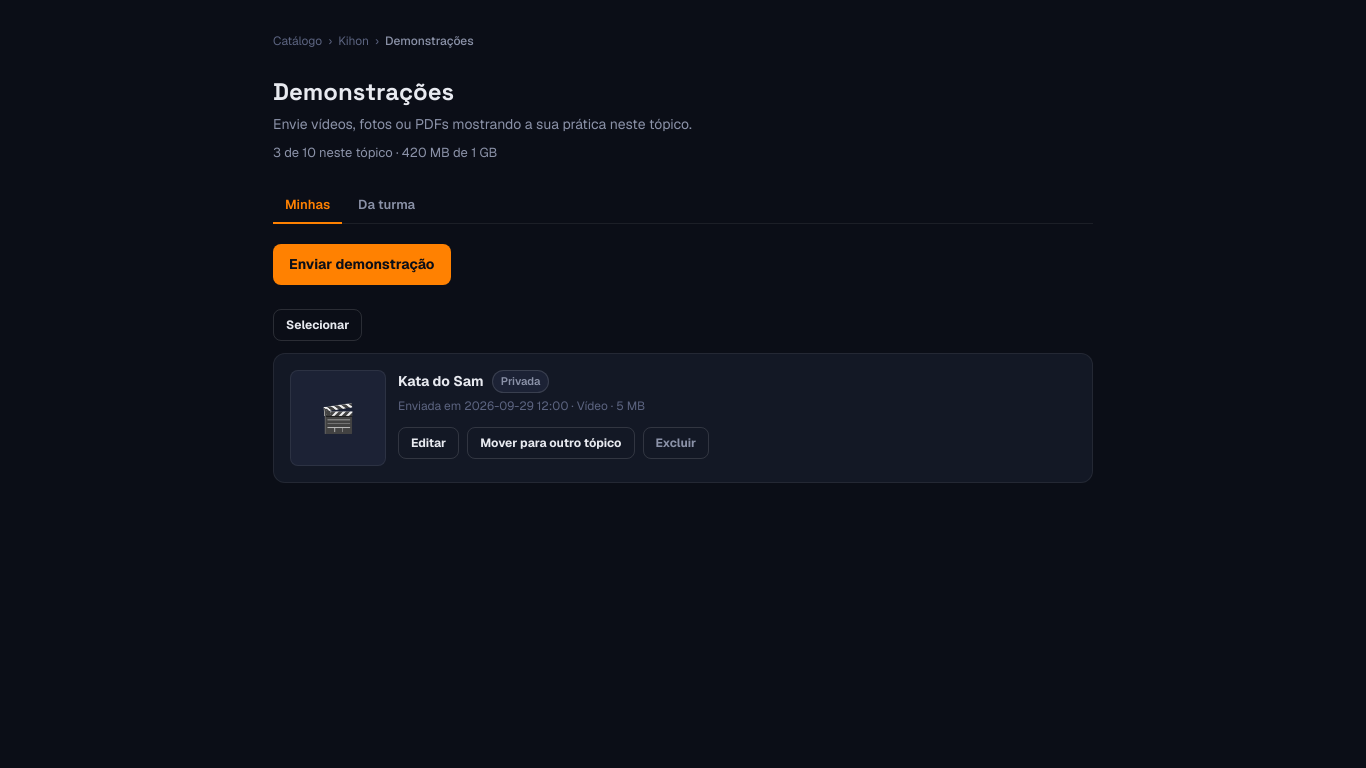
Test: a staff user authoring from Mine › edits and shares their own demonstration
The width and height of the screenshot is (1366, 768).
Click the button "Editar": click(429, 442) [398,426,459,458]
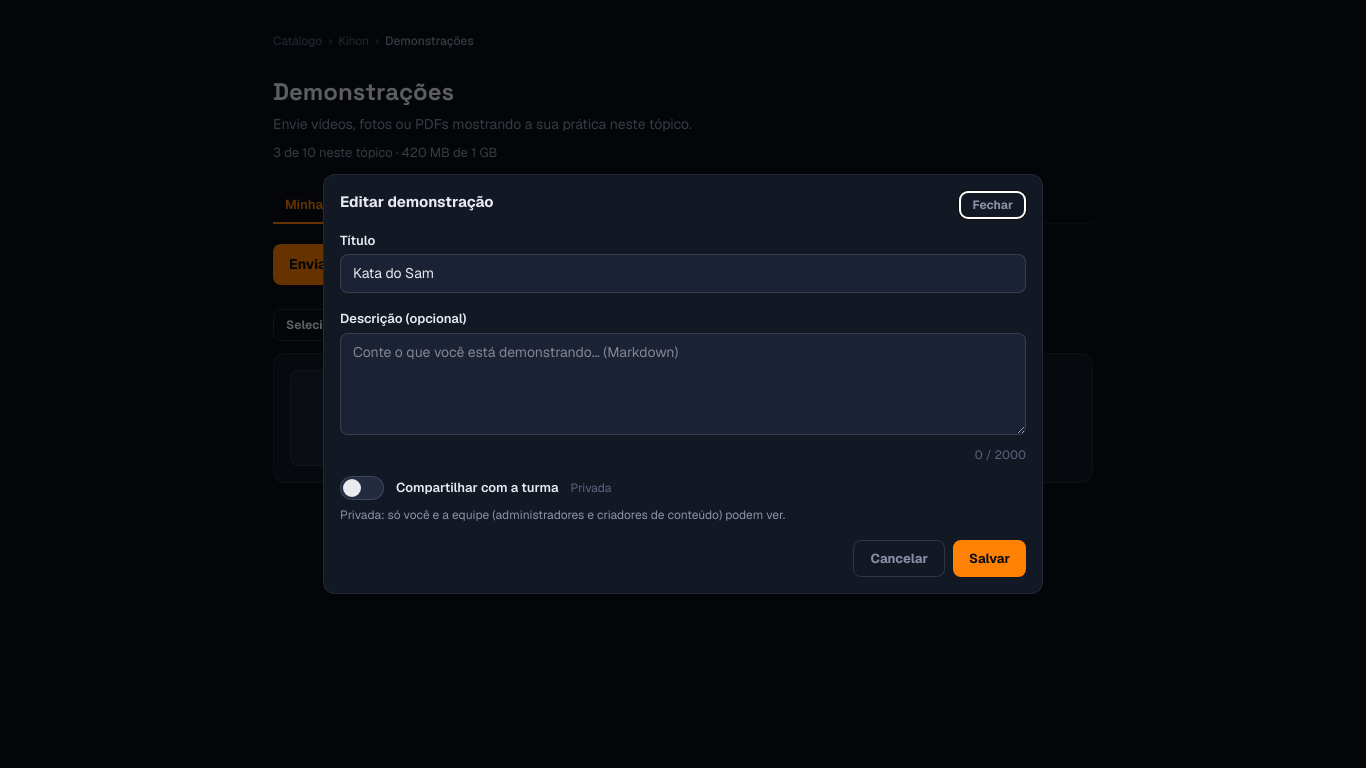
Click the switch: click(362, 488) [340,476,384,500]
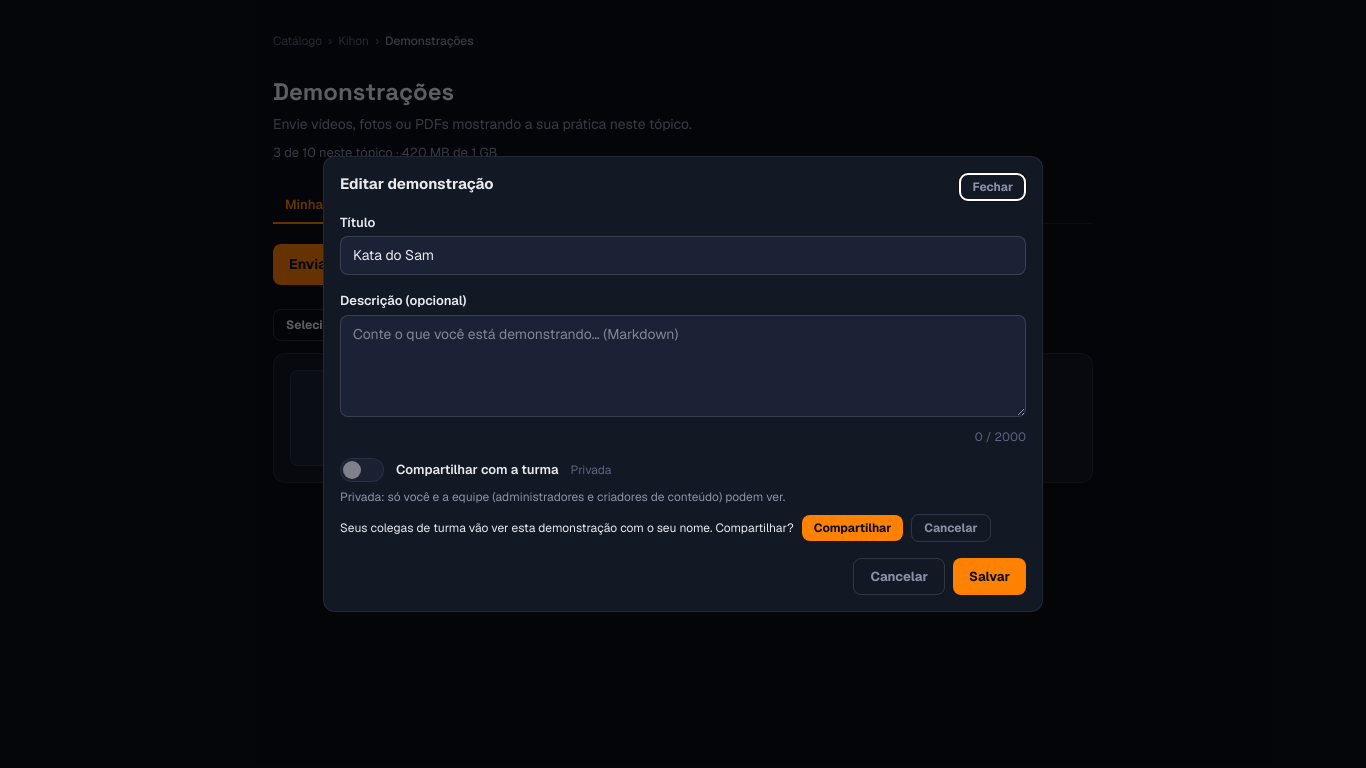
Click the button "Compartilhar": click(852, 528) [802,515,903,541]
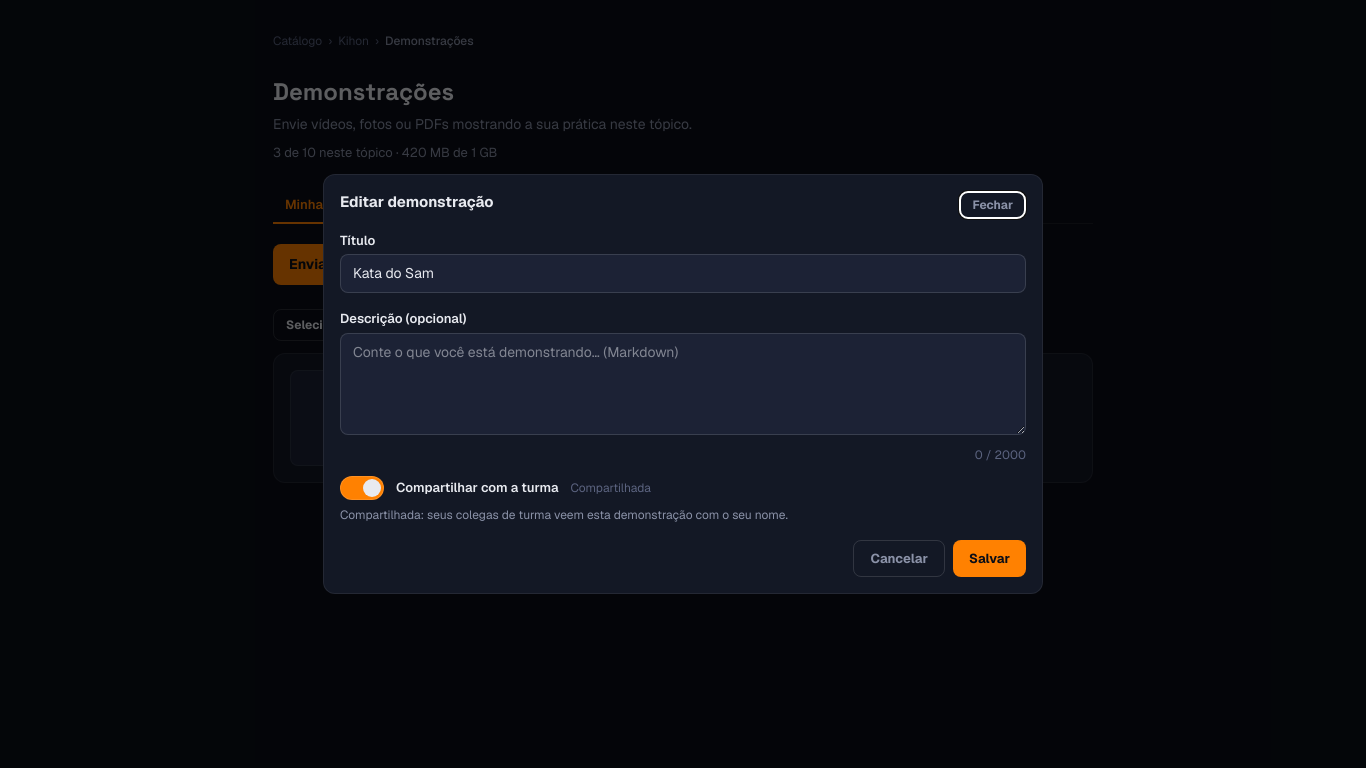
Click the button "Salvar": click(990, 559) [953,540,1026,577]
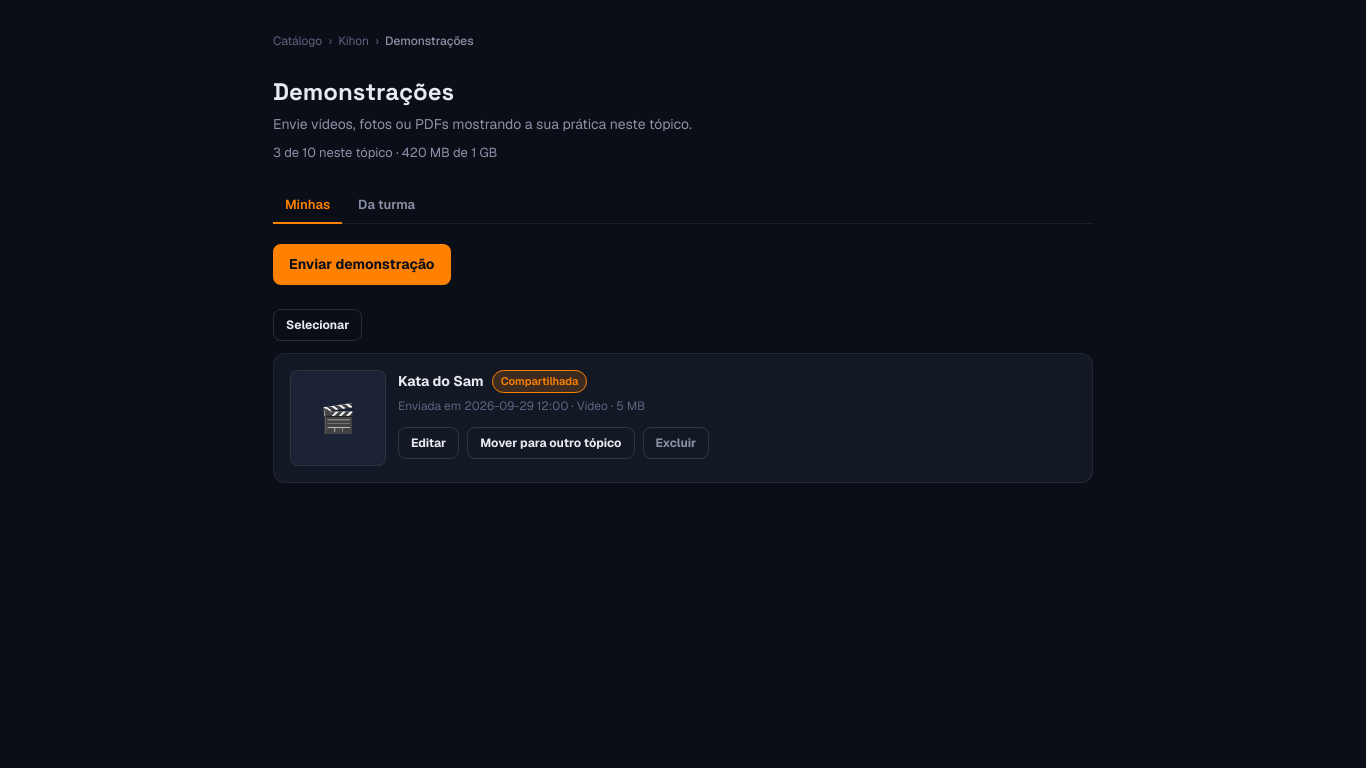
Result: the text "Compartilhada" is shown at [492,370,588,392]
